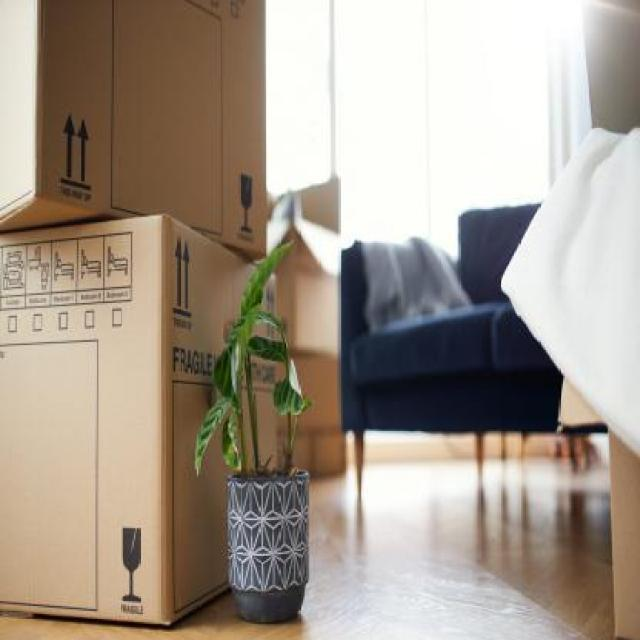box: (0, 217, 255, 625), (0, 1, 274, 257)
